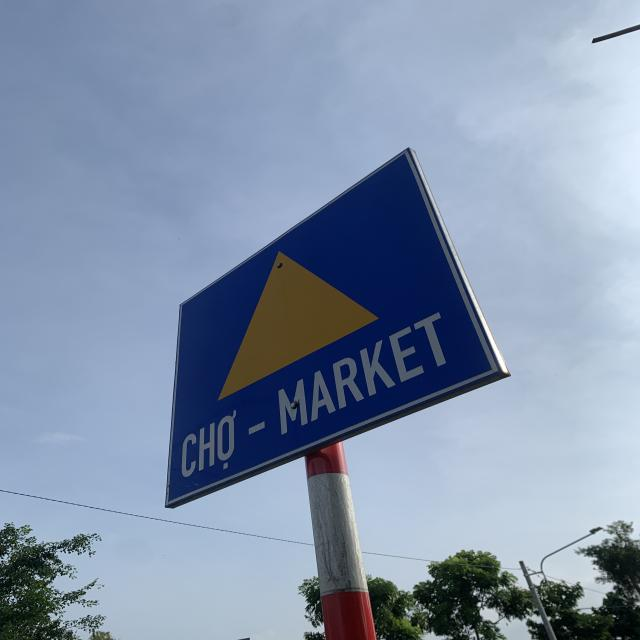Cho_Quay_Xe: (170, 146, 498, 508)
